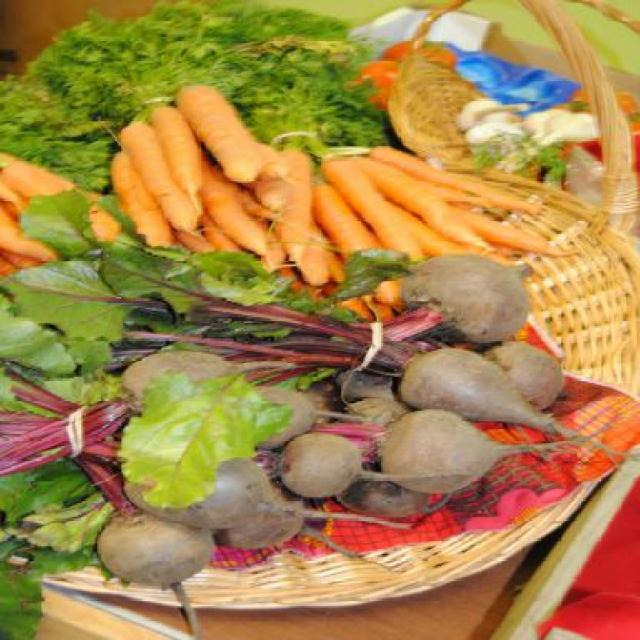Carrot: (114, 84, 554, 278), (0, 154, 124, 282)
